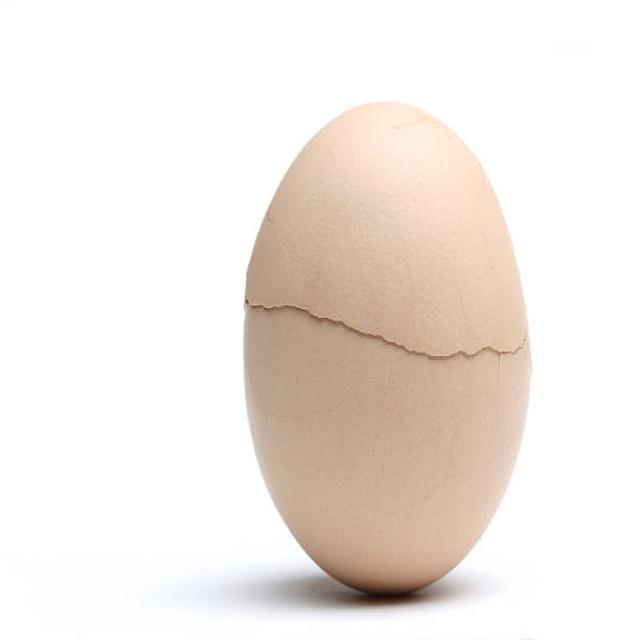Crack: (238, 230, 550, 398)
Egg: (218, 46, 571, 630)
